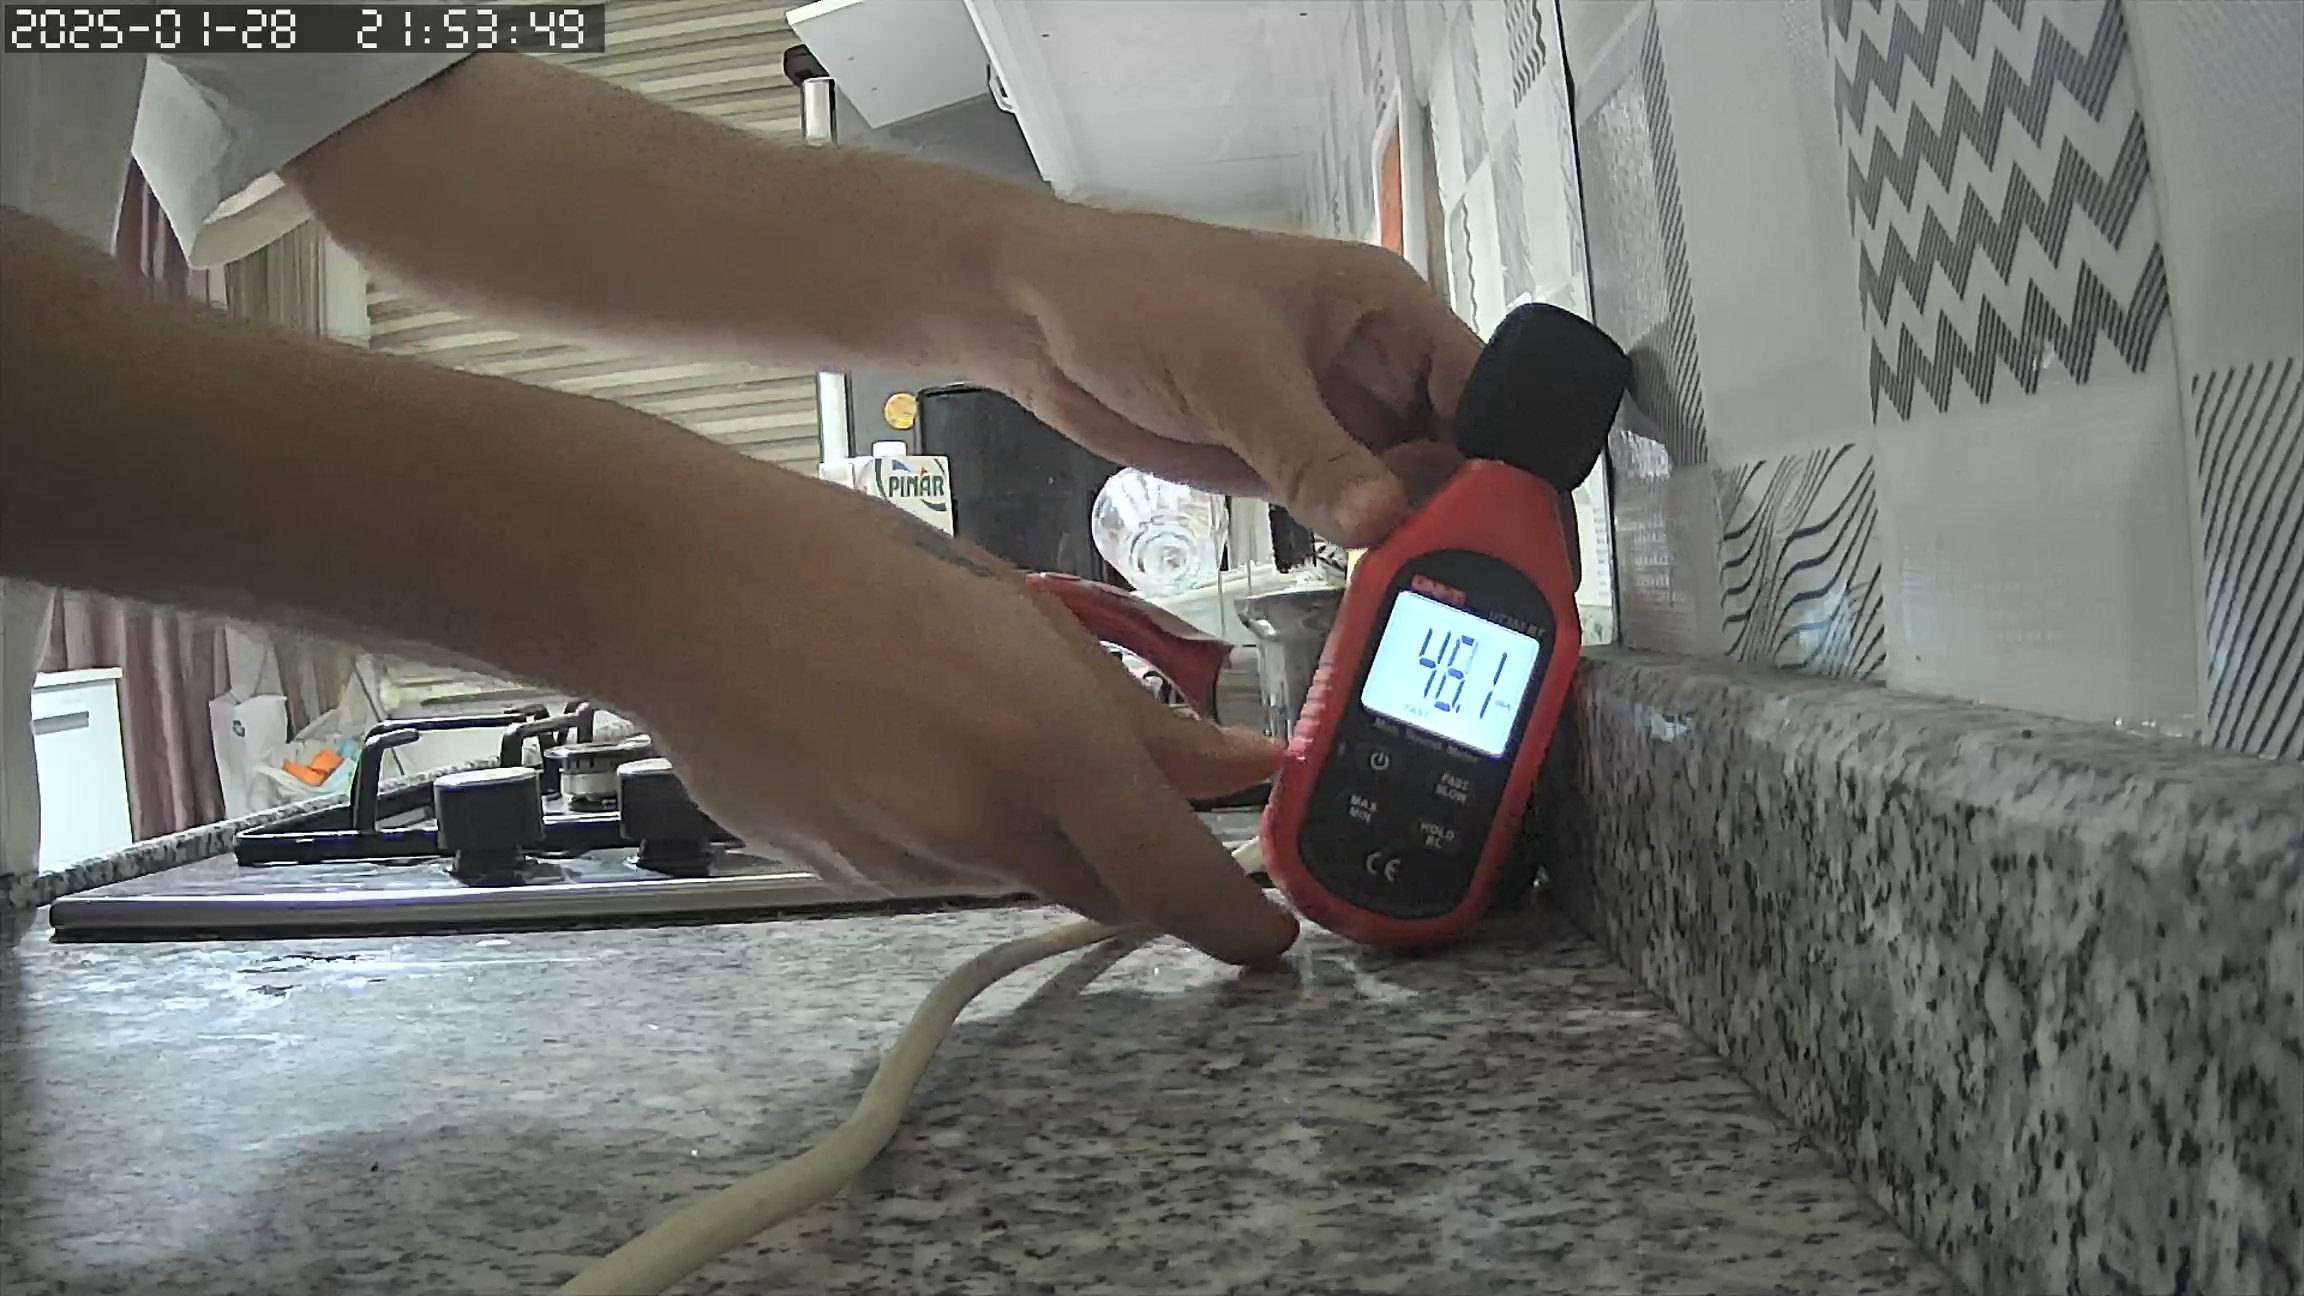screen: (1366, 590, 1537, 758)
